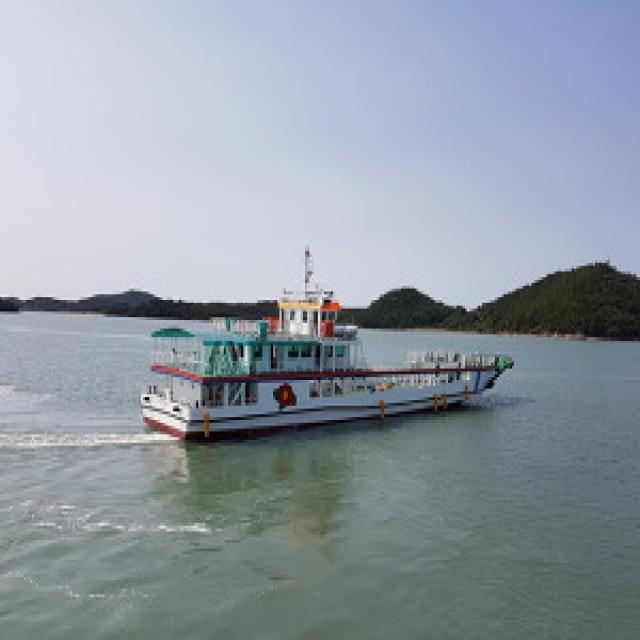passenger ship: (135, 269, 500, 443)
